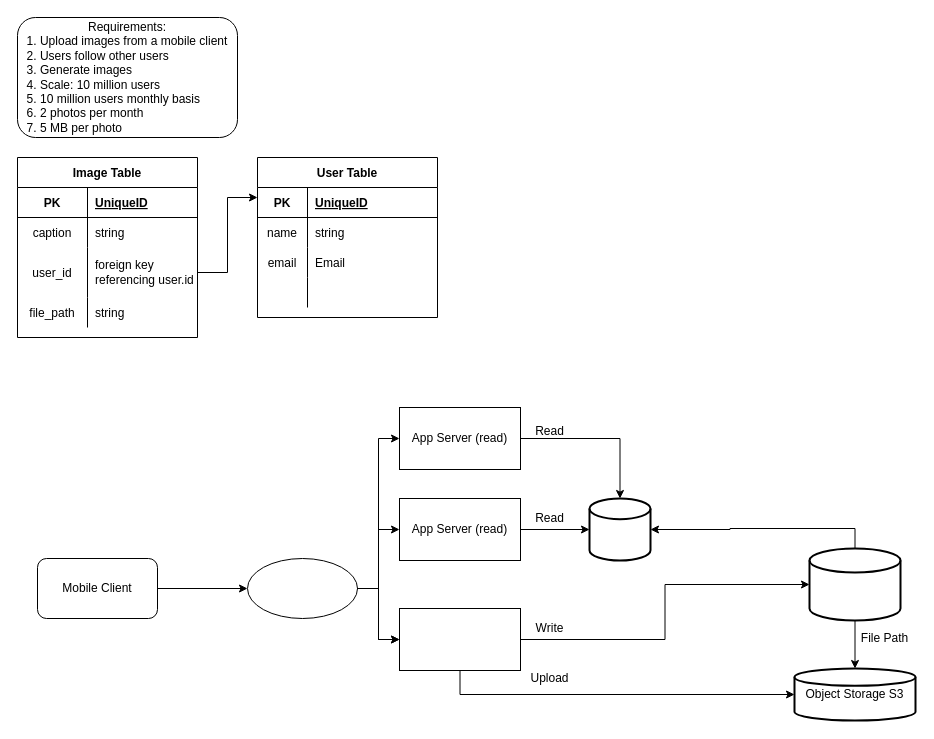
Image size: 934x739. Some labels were removed from this diagram. The box of each missing label's shape, as (x1, y1, x2, y2) in pixels:
ALB: (246, 558, 358, 618)
App Server (write): (398, 608, 520, 670)
Metadata DB: (808, 547, 901, 621)
RDS: (588, 497, 651, 561)
